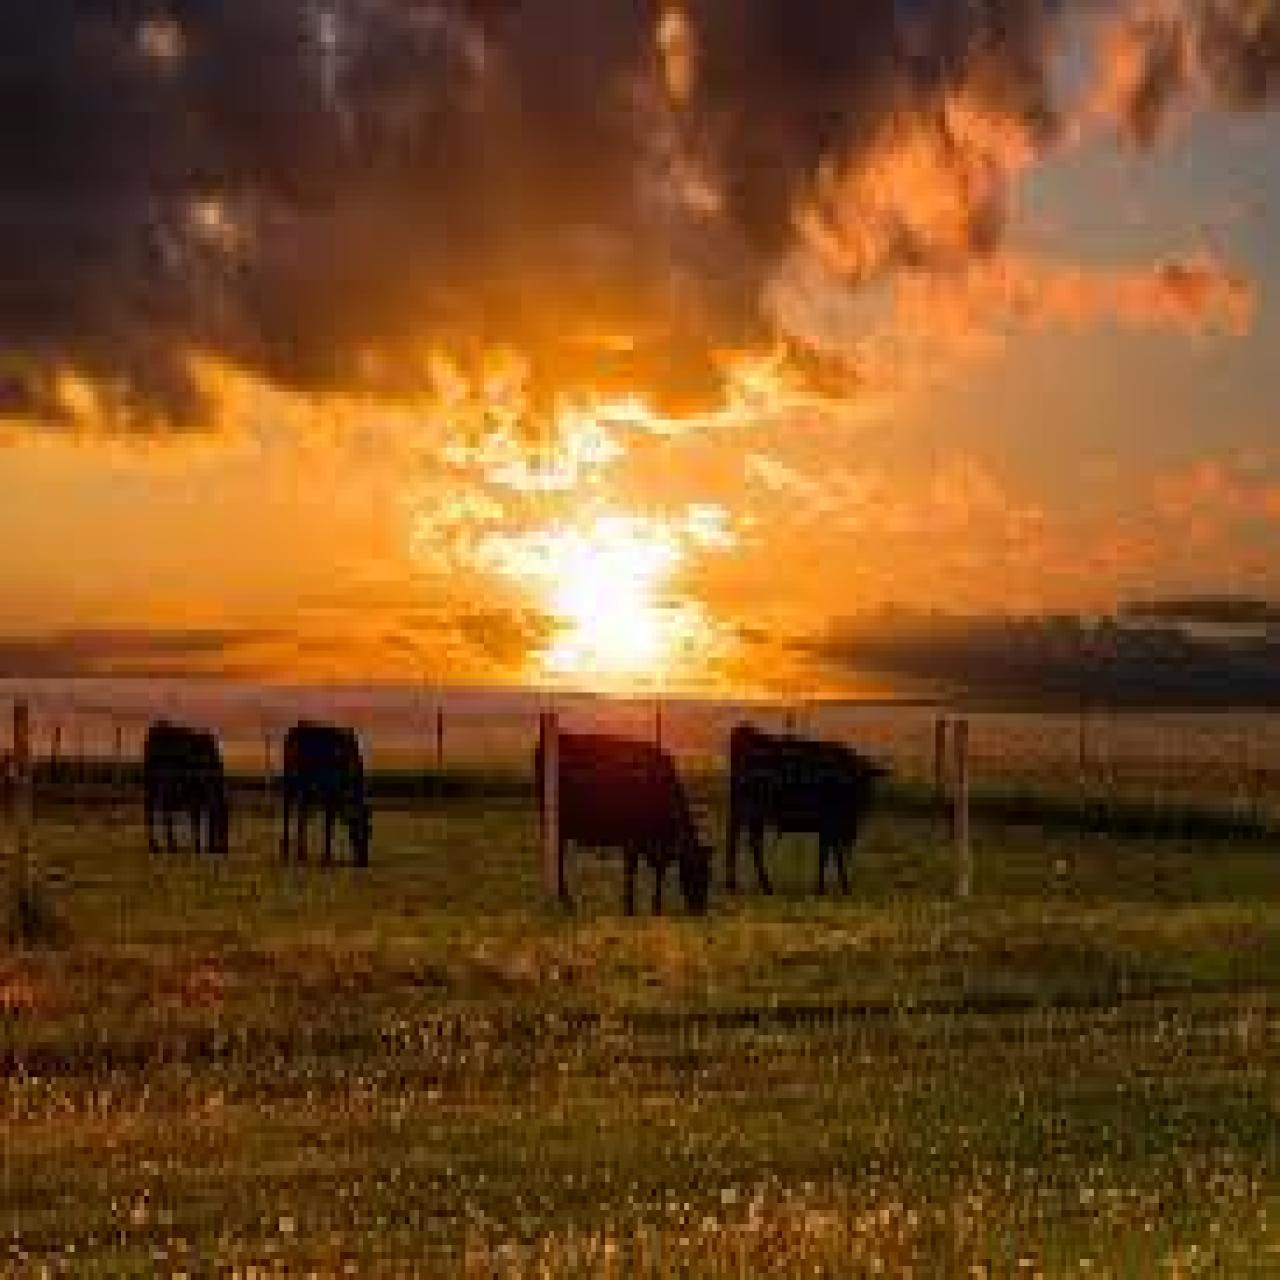cow: (529, 728, 729, 917), (722, 724, 899, 906), (267, 717, 384, 878), (135, 714, 237, 860)
